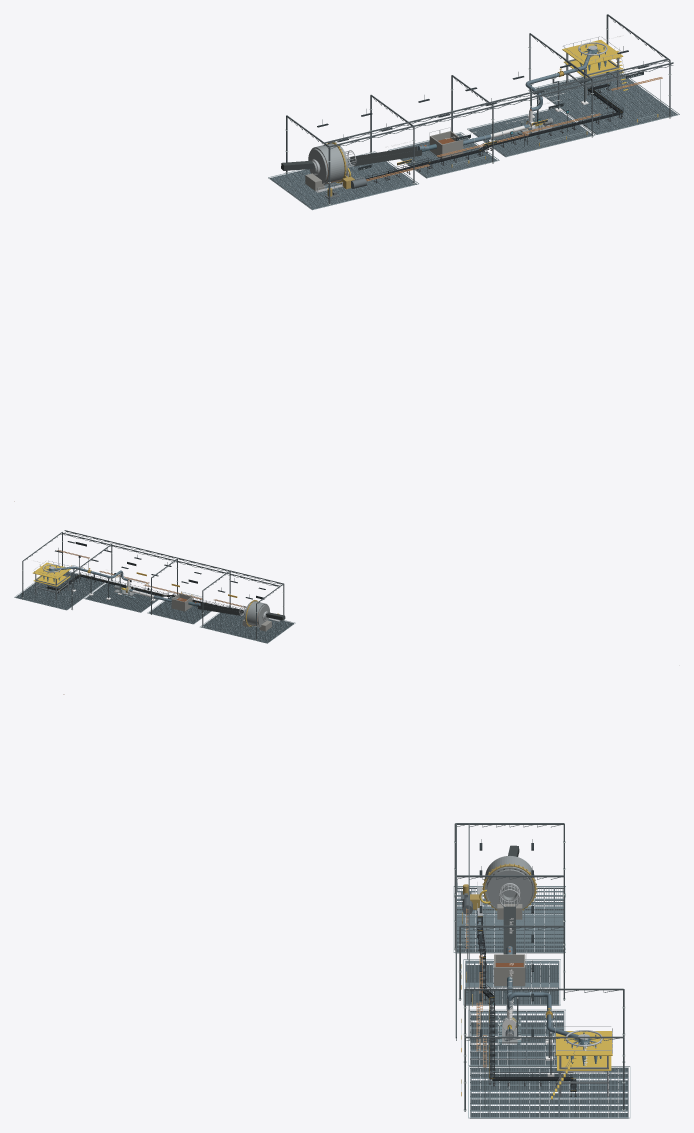
File: L394_L384_EULER_34_ANIM_FULL_LAB.glb
3 renders of one model, top to bottom at view 1: azimuth 30°, elevation 25°; view 2: azimuth 150°, elevation 25°; view 3: azimuth 270°, elevation 25°, orthographic. The views are drawn at different scales.
Parts seen in each view (by area): view 1: L20_OPTIONC_actual_H_steel_bays_trusses_braces, L20_OPTIONC_CLASS_CELL_REAL_OPEN_RECTANGULAR_BEARING_BAR_GRI, L20_OPTIONC_MILL_CELL_REAL_OPEN_RECTANGULAR_BEARING_BAR_GRID, L20_OPTIONC_PUMP_CELL_REAL_OPEN_RECTANGULAR_BEARING_BAR_GRID, L20_OPTIONC_SUMP_CELL_REAL_OPEN_RECTANGULAR_BEARING_BAR_GRID, L20_OPTIONC_floor_edges_machine_stainless, CLASS-01_MAIN_DECK_LAB, L20_OPTIONC_steel_sign_and_inspection_surfaces, MILL-01_TROMMEL_DISCHARGE_LAB, L20_OPTIONC_real_service_cables_and_trays; view 2: L20_OPTIONC_actual_H_steel_bays_trusses_braces, L20_OPTIONC_CLASS_CELL_REAL_OPEN_RECTANGULAR_BEARING_BAR_GRI, L20_OPTIONC_MILL_CELL_REAL_OPEN_RECTANGULAR_BEARING_BAR_GRID, L20_OPTIONC_PUMP_CELL_REAL_OPEN_RECTANGULAR_BEARING_BAR_GRID, L20_OPTIONC_SUMP_CELL_REAL_OPEN_RECTANGULAR_BEARING_BAR_GRID, L20_OPTIONC_floor_edges_machine_stainless, MILL-01_TROMMEL_DISCHARGE_LAB, L20_OPTIONC_steel_sign_and_inspection_surfaces, CLASS-01_MAIN_DECK_LAB, L20_OPTIONC_real_service_cables_and_trays, MILL-01_SHELL_BODY_LAB; view 3: L20_OPTIONC_CLASS_CELL_REAL_OPEN_RECTANGULAR_BEARING_BAR_GRI, L20_OPTIONC_actual_H_steel_bays_trusses_braces, L20_OPTIONC_MILL_CELL_REAL_OPEN_RECTANGULAR_BEARING_BAR_GRID, L20_OPTIONC_PUMP_CELL_REAL_OPEN_RECTANGULAR_BEARING_BAR_GRID, L20_OPTIONC_SUMP_CELL_REAL_OPEN_RECTANGULAR_BEARING_BAR_GRID, L20_OPTIONC_floor_edges_machine_stainless, L20_OPTIONC_CLASS_CELL_OPEN_UNDERSIDE_TRUSSED_SUPPORT, MILL-01_HEAD_DISCH_LAB, CLASS-01_MAIN_DECK_LAB, L20_OPTIONC_MILL_CELL_OPEN_UNDERSIDE_TRUSSED_SUPPORT, L20_OPTIONC_PUMP_CELL_OPEN_UNDERSIDE_TRUSSED_SUPPORT, CLASS-01_SERVICE_DECK_LAB (+1 smaller).
Part boxes in pixels (x1,y1,x2,y2): L20_OPTIONC_actual_H_steel_bays_trusses_braces: (286, 14, 673, 205); L20_OPTIONC_CLASS_CELL_REAL_OPEN_RECTANGULAR_BEARING_BAR_GRI: (535, 70, 677, 134); L20_OPTIONC_MILL_CELL_REAL_OPEN_RECTANGULAR_BEARING_BAR_GRID: (270, 152, 416, 209); L20_OPTIONC_PUMP_CELL_REAL_OPEN_RECTANGULAR_BEARING_BAR_GRID: (469, 109, 591, 156); L20_OPTIONC_SUMP_CELL_REAL_OPEN_RECTANGULAR_BEARING_BAR_GRID: (392, 133, 497, 177); L20_OPTIONC_floor_edges_machine_stainless: (268, 73, 679, 210); CLASS-01_MAIN_DECK_LAB: (562, 40, 623, 65); L20_OPTIONC_steel_sign_and_inspection_surfaces: (317, 50, 649, 170); MILL-01_TROMMEL_DISCHARGE_LAB: (350, 146, 421, 166); L20_OPTIONC_real_service_cables_and_trays: (366, 77, 662, 181); L20_OPTIONC_actual_H_steel_bays_trusses_braces: (22, 530, 284, 640); L20_OPTIONC_CLASS_CELL_REAL_OPEN_RECTANGULAR_BEARING_BAR_GRI: (15, 572, 103, 609); L20_OPTIONC_MILL_CELL_REAL_OPEN_RECTANGULAR_BEARING_BAR_GRID: (201, 607, 293, 642); L20_OPTIONC_PUMP_CELL_REAL_OPEN_RECTANGULAR_BEARING_BAR_GRID: (85, 583, 161, 612); L20_OPTIONC_SUMP_CELL_REAL_OPEN_RECTANGULAR_BEARING_BAR_GRID: (149, 597, 210, 623); L20_OPTIONC_floor_edges_machine_stainless: (14, 565, 295, 643); MILL-01_TROMMEL_DISCHARGE_LAB: (197, 603, 243, 615); L20_OPTIONC_steel_sign_and_inspection_surfaces: (55, 541, 265, 599); CLASS-01_MAIN_DECK_LAB: (33, 562, 70, 579); L20_OPTIONC_real_service_cables_and_trays: (57, 550, 246, 607); MILL-01_SHELL_BODY_LAB: (245, 601, 267, 627); L20_OPTIONC_CLASS_CELL_REAL_OPEN_RECTANGULAR_BEARING_BAR_GRI: (470, 1067, 628, 1117); L20_OPTIONC_actual_H_steel_bays_trusses_braces: (454, 823, 624, 1111); L20_OPTIONC_MILL_CELL_REAL_OPEN_RECTANGULAR_BEARING_BAR_GRID: (457, 887, 563, 952); L20_OPTIONC_PUMP_CELL_REAL_OPEN_RECTANGULAR_BEARING_BAR_GRID: (470, 1011, 563, 1065); L20_OPTIONC_SUMP_CELL_REAL_OPEN_RECTANGULAR_BEARING_BAR_GRID: (465, 960, 558, 1004); L20_OPTIONC_floor_edges_machine_stainless: (453, 883, 630, 1118); L20_OPTIONC_CLASS_CELL_OPEN_UNDERSIDE_TRUSSED_SUPPORT: (470, 1067, 628, 1118); MILL-01_HEAD_DISCH_LAB: (487, 869, 532, 907); CLASS-01_MAIN_DECK_LAB: (555, 1031, 612, 1055); L20_OPTIONC_MILL_CELL_OPEN_UNDERSIDE_TRUSSED_SUPPORT: (455, 888, 563, 953); L20_OPTIONC_PUMP_CELL_OPEN_UNDERSIDE_TRUSSED_SUPPORT: (470, 1011, 564, 1066); CLASS-01_SERVICE_DECK_LAB: (557, 1056, 611, 1070).
Size of the model in its own units: 244 by 36.25 by 114.
